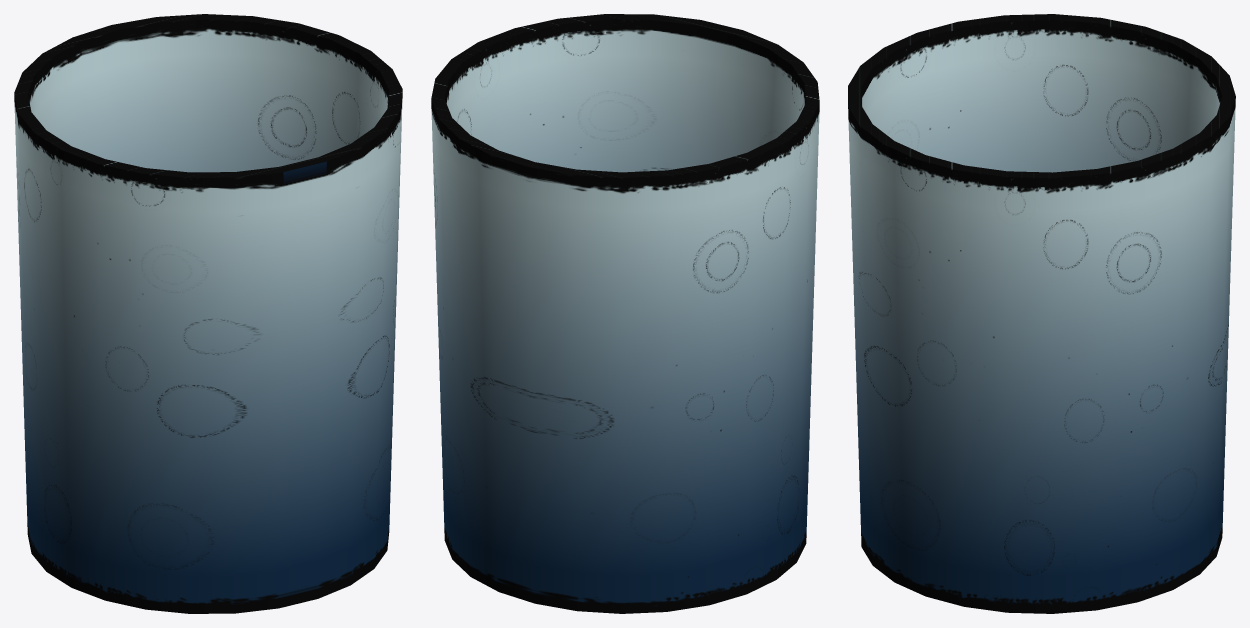
File: glass-cup.obj
The picture shows the model from 3 angles, left to right: view 1: azimuth 30°, elevation 25°; view 2: azimuth 150°, elevation 25°; view 3: azimuth 270°, elevation 25°; orthographic projection.
Visible parts, largest first — view 1: glass-cup; view 2: glass-cup; view 3: glass-cup.
Boxes of the visible parts, x1=… form: glass-cup: x1=14, y1=14, x2=402, y2=613; glass-cup: x1=431, y1=14, x2=819, y2=613; glass-cup: x1=848, y1=14, x2=1235, y2=613.
Size of the model in its own units: 0.1987 by 0.2491 by 0.1983.
